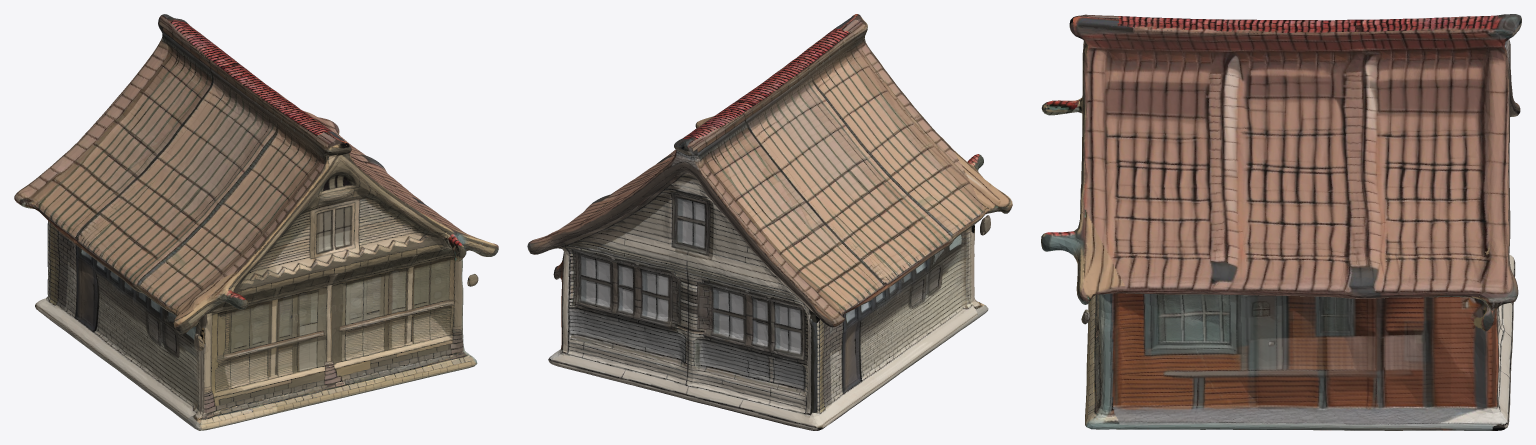
The model's file is textured_simple.glb.
3 renders of one model, left to right at view 1: azimuth 30°, elevation 25°; view 2: azimuth 150°, elevation 25°; view 3: azimuth 270°, elevation 25°, orthographic. The views are drawn at different scales.
Parts seen in each view (by area): view 1: Node; view 2: Node; view 3: Node.
Part boxes in pixels (<box>): Node: <box>14,14,498,430</box>; Node: <box>527,14,1012,430</box>; Node: <box>1041,14,1521,430</box>.
Bounding box in the file's own units: 1.96 × 1.52 × 2.
Materials: 1 (1 with a texture image).
